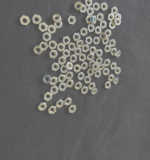nut: (19, 15, 31, 26), (31, 14, 42, 24), (41, 32, 52, 42), (38, 22, 48, 32), (74, 1, 84, 11), (67, 16, 77, 25), (48, 50, 58, 59), (39, 42, 49, 51), (38, 103, 48, 112), (42, 75, 52, 84), (50, 85, 59, 95), (51, 62, 60, 72), (66, 79, 75, 89), (92, 2, 101, 12), (86, 7, 95, 17), (81, 44, 91, 53), (73, 64, 82, 74), (101, 36, 110, 46), (76, 72, 86, 81), (62, 36, 71, 45), (47, 25, 56, 34), (43, 92, 52, 101), (48, 106, 57, 115), (49, 77, 58, 86), (57, 75, 66, 84), (65, 71, 74, 80), (76, 40, 85, 49), (86, 7, 95, 16), (107, 74, 116, 83), (87, 53, 96, 62), (74, 82, 83, 91), (52, 15, 62, 23), (101, 2, 109, 12), (33, 46, 43, 54), (57, 42, 65, 52), (73, 32, 81, 42), (57, 57, 67, 65), (70, 54, 78, 64), (93, 36, 101, 46), (49, 41, 57, 50), (54, 21, 63, 29), (68, 106, 77, 114), (64, 98, 72, 107), (56, 99, 64, 108), (81, 86, 89, 95), (59, 83, 67, 92), (69, 43, 77, 52), (62, 50, 71, 58), (60, 65, 68, 74), (66, 62, 74, 71), (74, 48, 83, 56), (79, 5, 87, 14), (85, 16, 94, 24), (97, 13, 105, 22), (115, 13, 123, 22), (100, 20, 108, 29), (85, 36, 93, 45), (79, 53, 87, 62), (81, 62, 89, 71), (93, 37, 101, 46), (109, 39, 117, 48), (105, 81, 113, 90), (104, 59, 112, 68), (96, 49, 104, 58), (92, 63, 100, 72), (84, 76, 92, 85), (89, 82, 97, 91), (111, 47, 118, 57), (90, 45, 97, 55), (91, 15, 97, 26), (111, 7, 119, 15), (105, 29, 113, 37), (99, 33, 107, 41), (113, 78, 121, 86), (88, 24, 95, 33), (109, 21, 116, 30), (95, 26, 102, 35), (105, 45, 112, 54), (96, 58, 105, 65), (95, 70, 102, 79), (103, 68, 110, 77), (115, 67, 122, 75), (85, 0, 93, 7), (81, 28, 88, 36), (115, 18, 122, 26), (108, 13, 115, 21), (115, 50, 122, 58), (111, 63, 118, 71), (89, 60, 96, 68), (91, 89, 99, 96), (87, 69, 94, 76), (97, 65, 104, 70)
